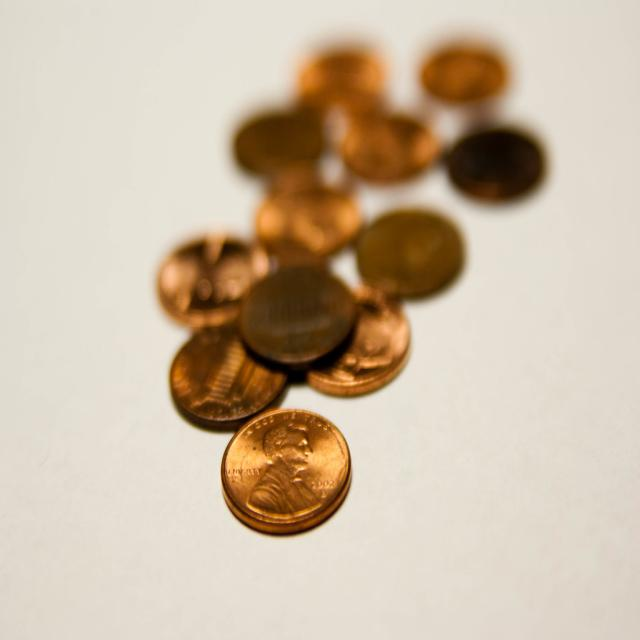Coin: (152, 41, 545, 529)
